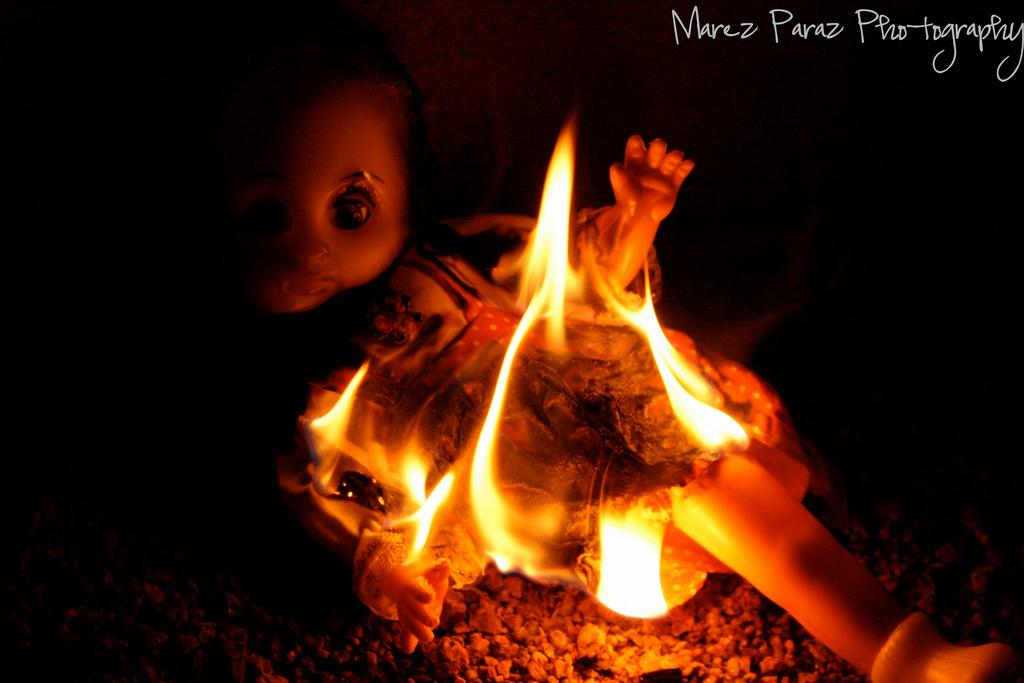fire: (430, 458, 512, 578), (650, 342, 740, 440), (528, 162, 570, 323), (603, 518, 665, 623)
